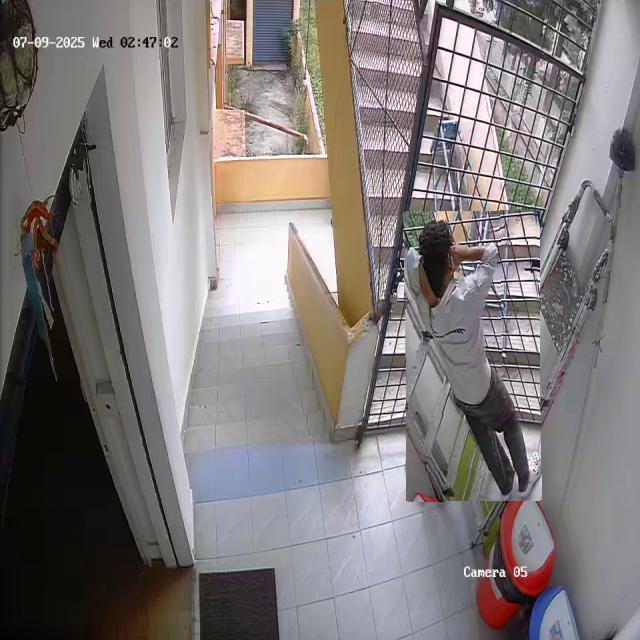person: (405, 210, 541, 502)
